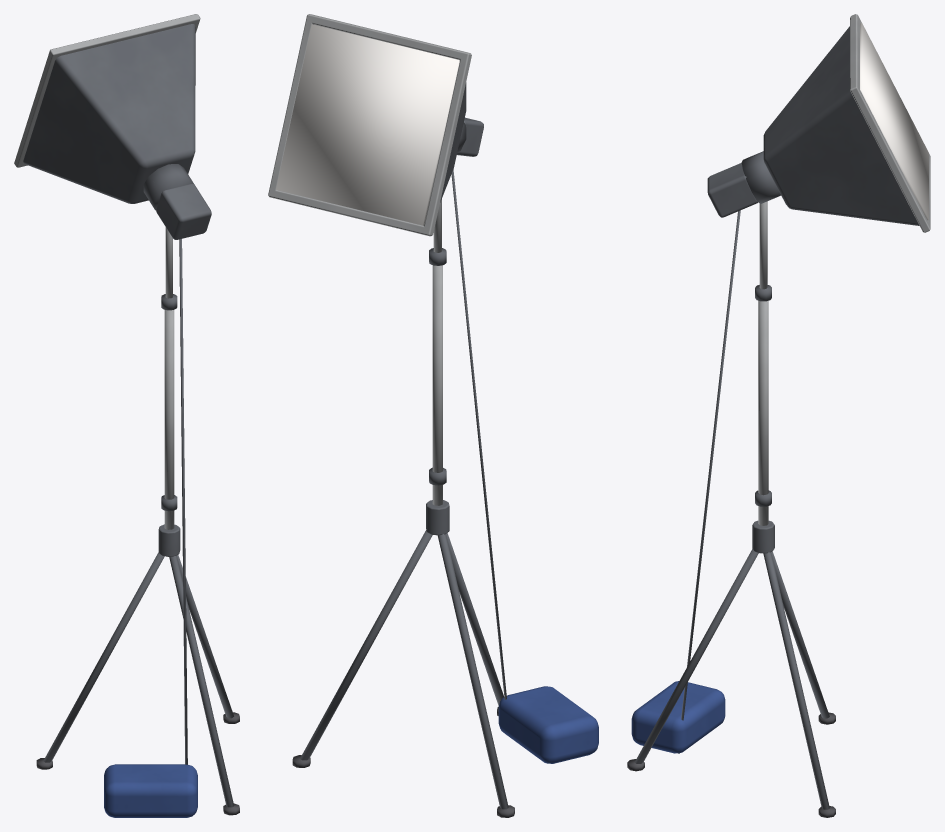
File: Viral_Softbox.fbx
3 renders of one model, left to right at view 1: azimuth 30°, elevation 25°; view 2: azimuth 150°, elevation 25°; view 3: azimuth 270°, elevation 25°, orthographic. The views are drawn at different scales.
Parts seen in each view (by area): view 1: Viral_Softbox; view 2: Viral_Softbox; view 3: Viral_Softbox.
Boxes of the visible parts, left/top/right/bottom form: Viral_Softbox: left=14, top=14, right=239, bottom=817; Viral_Softbox: left=268, top=14, right=598, bottom=817; Viral_Softbox: left=627, top=14, right=930, bottom=817.
Size of the model in its own units: 0.8581 by 2.8 by 1.07.
1 material, 1 textured.
